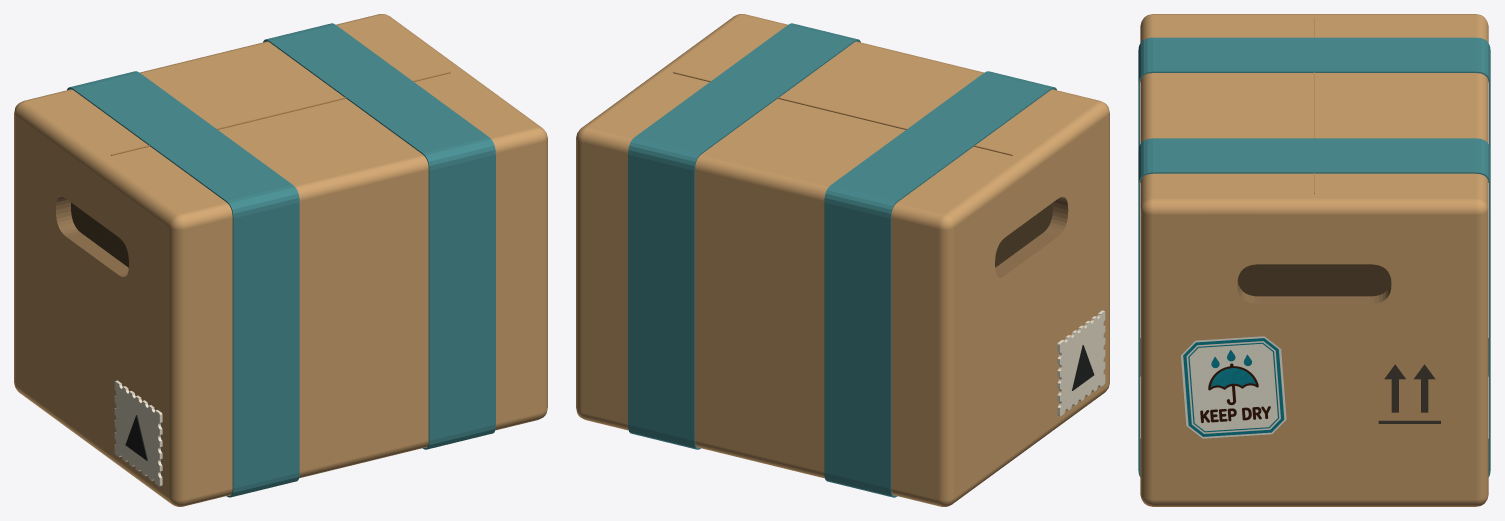
File: play-parcel-large-teal.glb
3 renders of one model, left to right at view 1: azimuth 30°, elevation 25°; view 2: azimuth 150°, elevation 25°; view 3: azimuth 270°, elevation 25°, orthographic. The views are drawn at different scales.
Visible parts, largest first — view 1: Parcel_Carton, Parcel_Tape_Parallel_1, Parcel_Tape_Parallel_2, Parcel_Paper_Label, Parcel_Carry_Slot_Walls_Negative_X, Parcel_Carry_Slot_Interior_Negative_X; view 2: Parcel_Carton, Parcel_Tape_Parallel_1, Parcel_Tape_Parallel_2, Parcel_Paper_Label, Parcel_Carry_Slot_Walls_Negative_X, Parcel_Carry_Slot_Interior_Negative_X; view 3: Parcel_Carton, Parcel_Tape_Parallel_2, Parcel_Tape_Parallel_1, Parcel_Care_D3_Artwork, Parcel_Carry_Slot_Interior_Positive_X, Parcel_Carry_Slot_Walls_Positive_X, Parcel_Up_Arrows_Positive_X.
Part boxes in pixels (x1,y1,x2,y2): Parcel_Carton: (14, 14, 547, 506); Parcel_Tape_Parallel_1: (67, 71, 299, 497); Parcel_Tape_Parallel_2: (263, 23, 495, 449); Parcel_Paper_Label: (114, 380, 162, 486); Parcel_Carry_Slot_Walls_Negative_X: (56, 196, 128, 277); Parcel_Carry_Slot_Interior_Negative_X: (71, 202, 128, 267); Parcel_Carton: (576, 14, 1109, 506); Parcel_Tape_Parallel_1: (824, 71, 1056, 497); Parcel_Tape_Parallel_2: (628, 23, 860, 449); Parcel_Paper_Label: (1057, 310, 1105, 416); Parcel_Carry_Slot_Walls_Negative_X: (995, 197, 1068, 277); Parcel_Carry_Slot_Interior_Negative_X: (995, 202, 1052, 267); Parcel_Carton: (1140, 14, 1488, 506); Parcel_Tape_Parallel_2: (1138, 138, 1490, 476); Parcel_Tape_Parallel_1: (1138, 37, 1490, 376); Parcel_Care_D3_Artwork: (1180, 336, 1286, 438); Parcel_Carry_Slot_Interior_Positive_X: (1237, 264, 1391, 296); Parcel_Carry_Slot_Walls_Positive_X: (1237, 281, 1391, 304); Parcel_Up_Arrows_Positive_X: (1378, 364, 1440, 423).
Size of the model in its own units: 0.2531 by 0.187 by 0.192.
11 materials, 1 textured.
